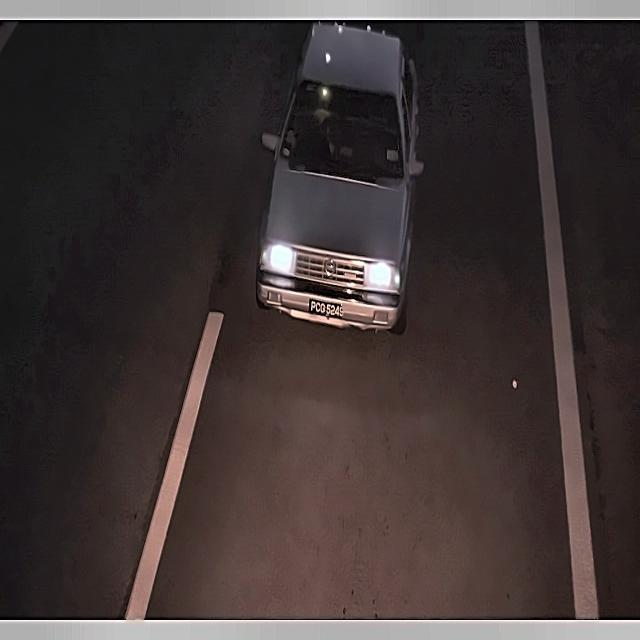car: (300, 292, 350, 328)
